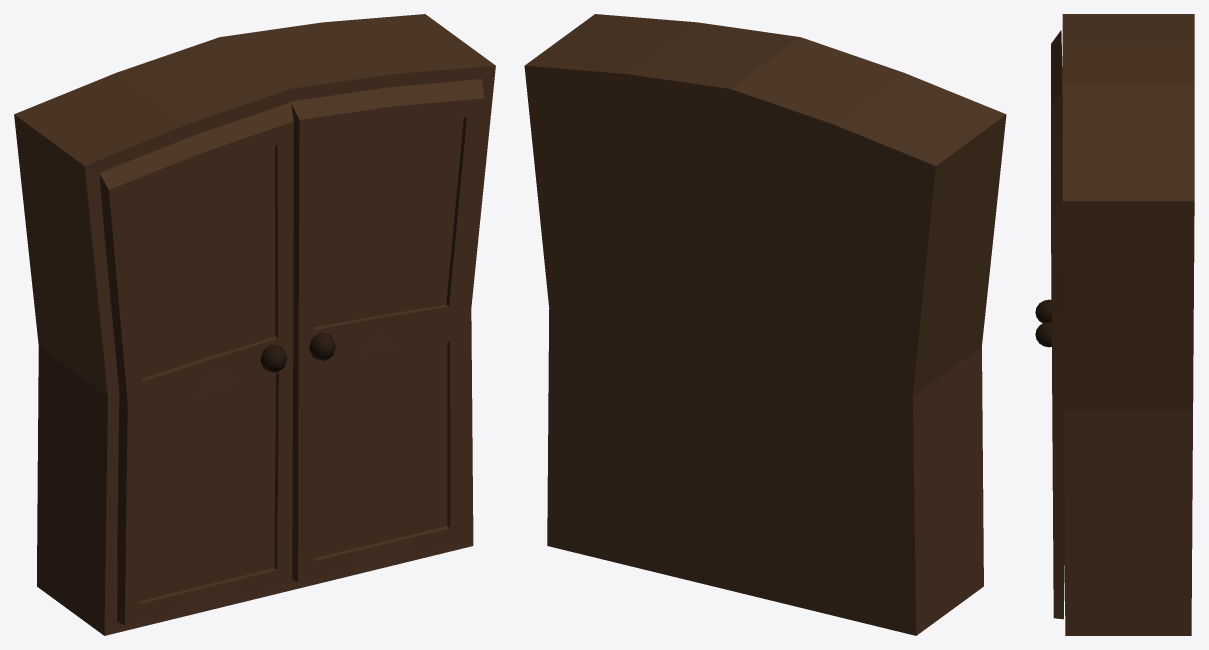
The model's file is Armario.fbx.
3 views of the same model, side by side, from view 1: azimuth 30°, elevation 25°; view 2: azimuth 150°, elevation 25°; view 3: azimuth 270°, elevation 25° (orthographic). The views are drawn at different scales.
Parts seen in each view (by area): view 1: puerta_izq, puerta_der, armario1; view 2: armario1; view 3: armario1, puerta_der, puerta_izq.
Boxes of the visible parts, bbox=[...] form: puerta_izq: bbox=[99, 102, 293, 624]; puerta_der: bbox=[290, 79, 484, 581]; armario1: bbox=[14, 14, 495, 635]; armario1: bbox=[524, 14, 1006, 635]; armario1: bbox=[1062, 14, 1194, 635]; puerta_der: bbox=[1035, 95, 1064, 619]; puerta_izq: bbox=[1035, 30, 1062, 323].
Bounding box in the file's own units: 184 × 215 × 66.16.
